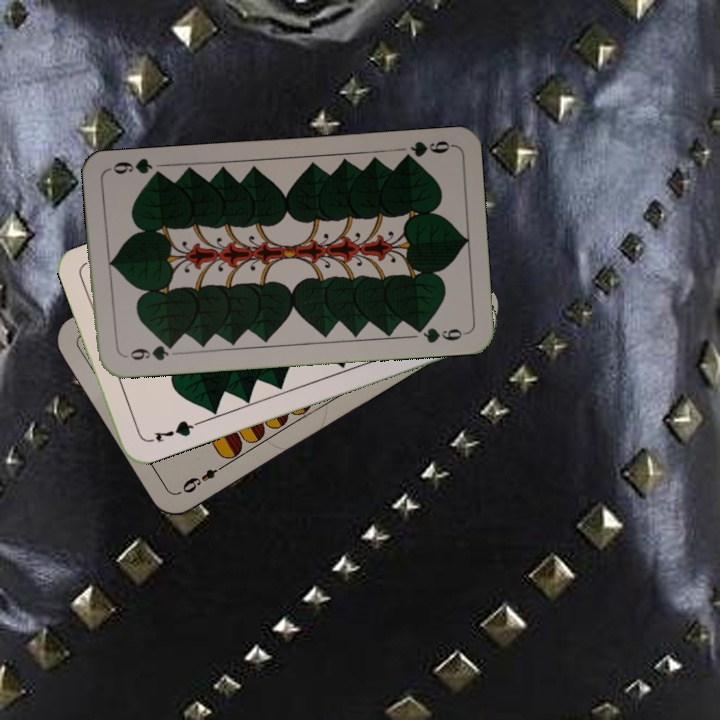E9: (178, 459, 229, 496)
G7: (143, 416, 201, 446)
G9: (397, 136, 455, 164), (119, 339, 178, 363)
